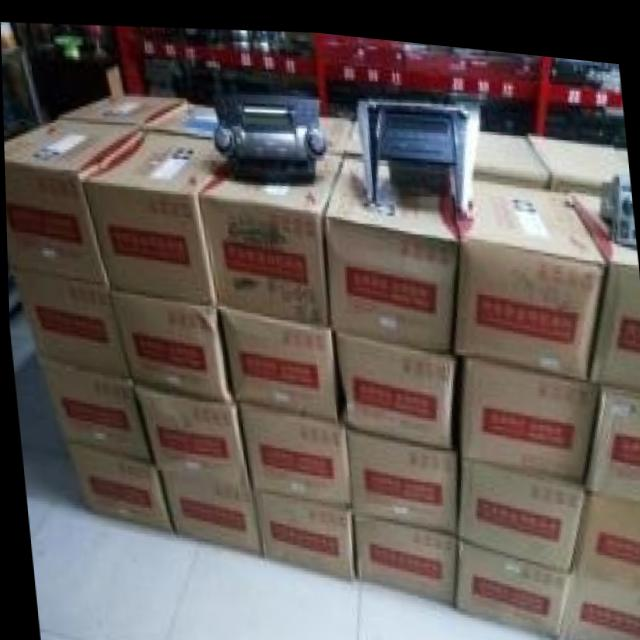box: (449, 167, 607, 367), (322, 146, 457, 343), (198, 144, 343, 320), (84, 121, 227, 299), (3, 113, 144, 285), (452, 348, 595, 469), (454, 444, 585, 558), (331, 320, 455, 437), (568, 177, 640, 378), (214, 298, 335, 410), (105, 286, 226, 397), (343, 417, 457, 529), (33, 350, 151, 457), (451, 527, 570, 629), (7, 272, 127, 373), (129, 376, 246, 479), (233, 398, 351, 500), (61, 439, 171, 531), (348, 501, 456, 594), (249, 480, 353, 571), (153, 460, 260, 548), (569, 469, 640, 579), (579, 367, 640, 488), (557, 561, 640, 640), (526, 122, 628, 178), (61, 90, 188, 123), (474, 121, 551, 173), (147, 98, 220, 132), (321, 109, 352, 144), (344, 112, 363, 147), (611, 131, 627, 166)
